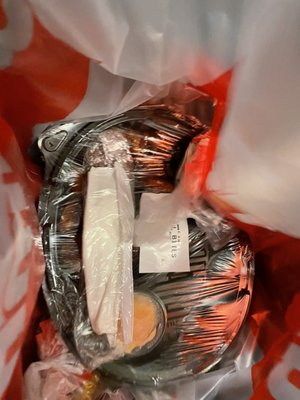pizza: (0, 1, 281, 396)
